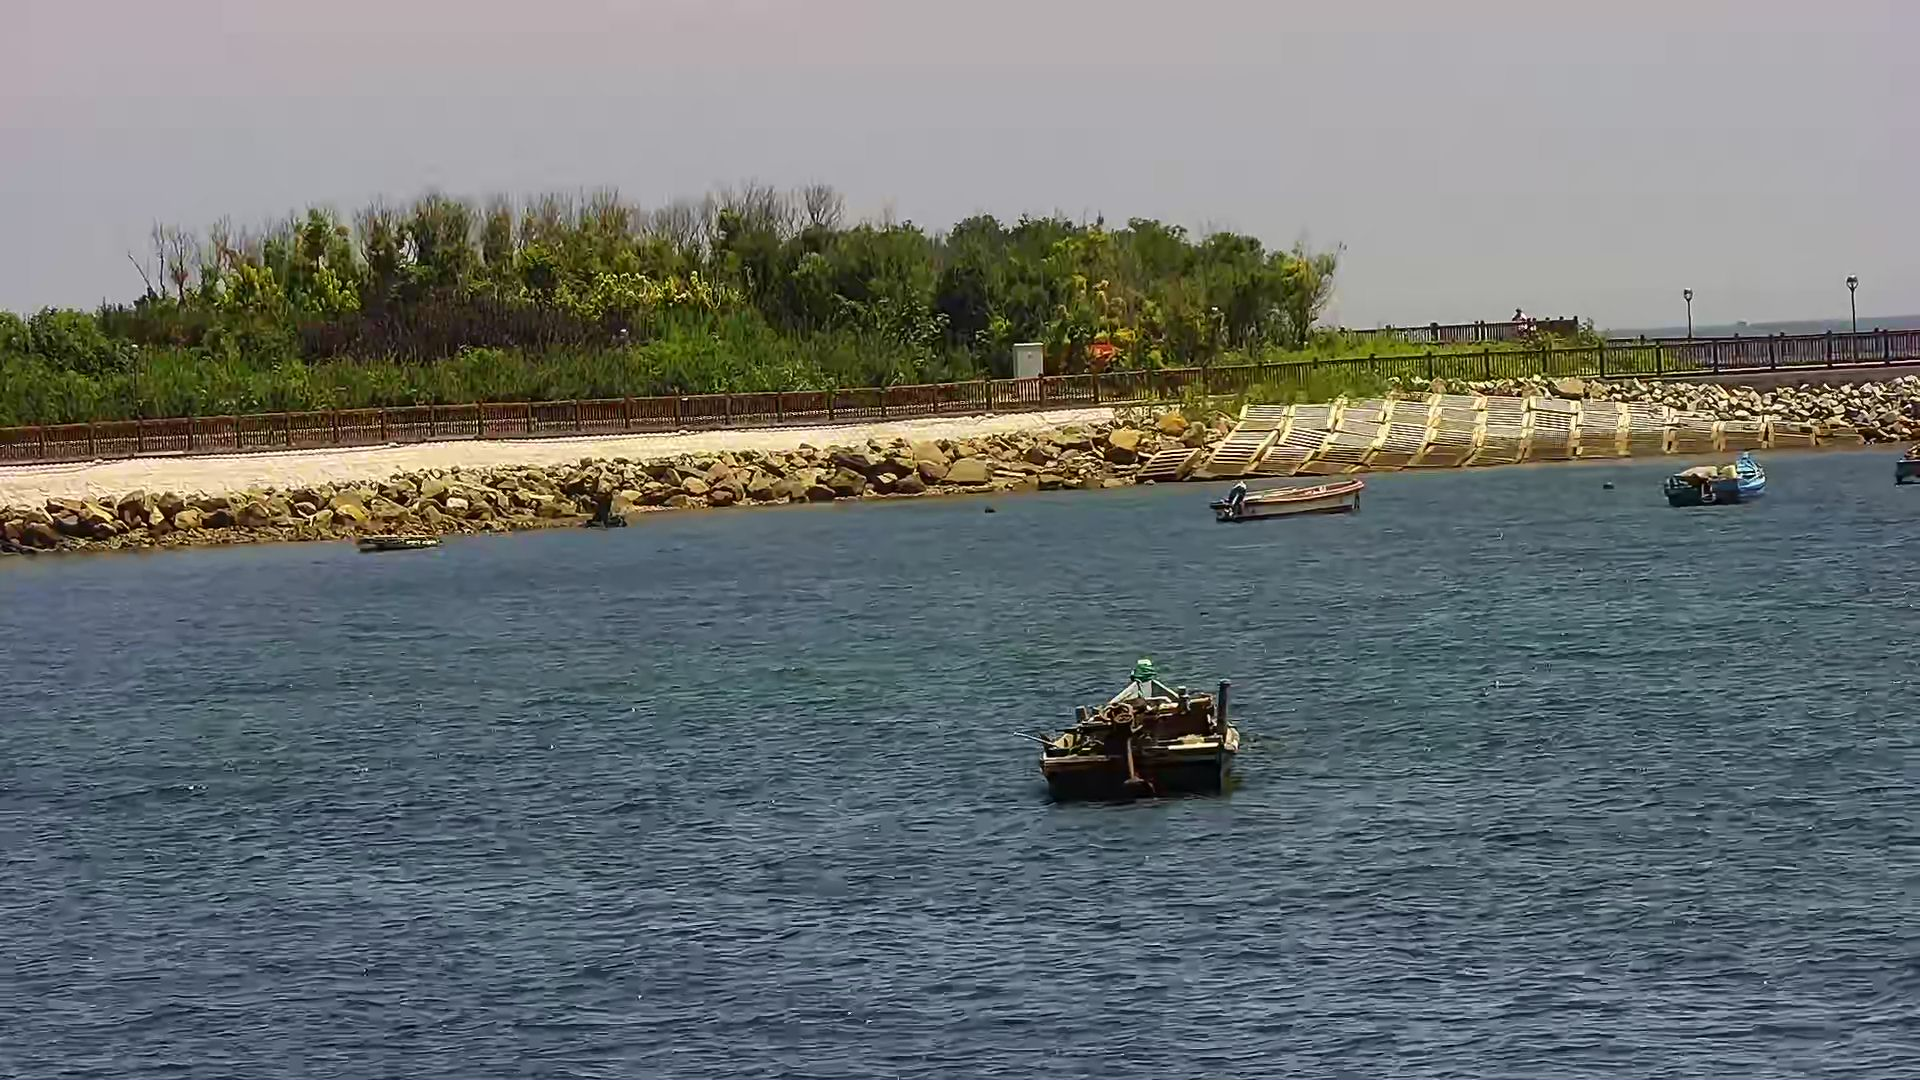boat: (1021, 649, 1261, 803), (1211, 481, 1375, 527), (1658, 456, 1784, 516)
